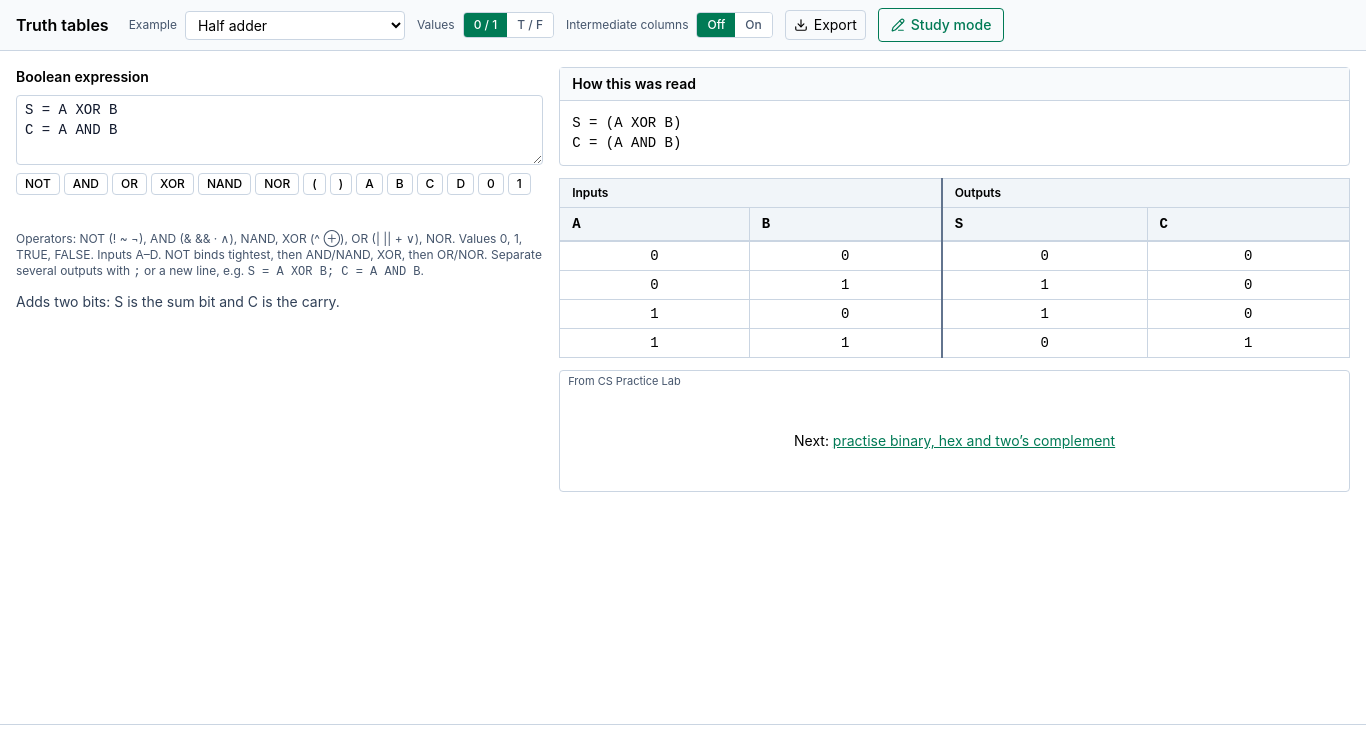
Test: Truth Table Study Mode › hides the outputs (4 rows × S, C = 8 boxes), focuses the first, and Exit restores the table
Later steps or results of the test are not shown.
Click the button "Study mode".
click(941, 25)  # box [878,8,1004,42]
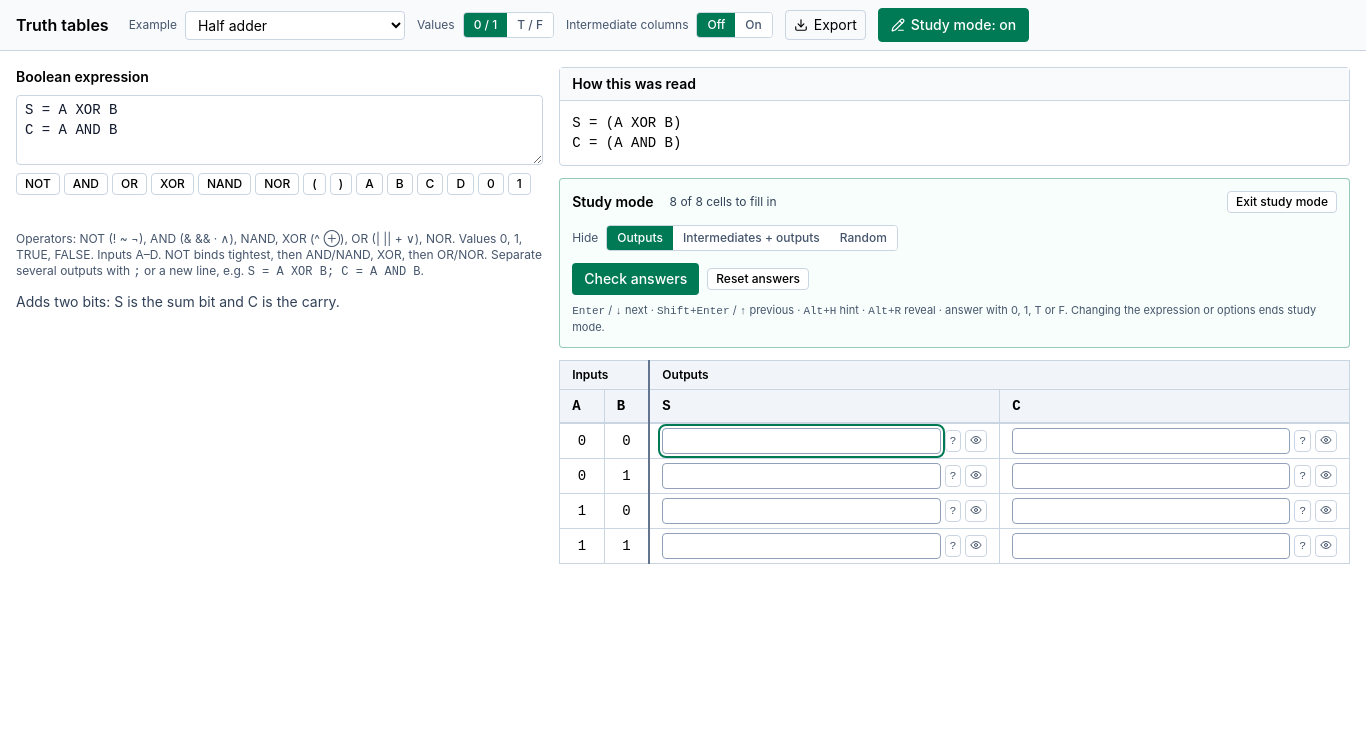
Expected: the number of fields named "Row 1, S" is 8
